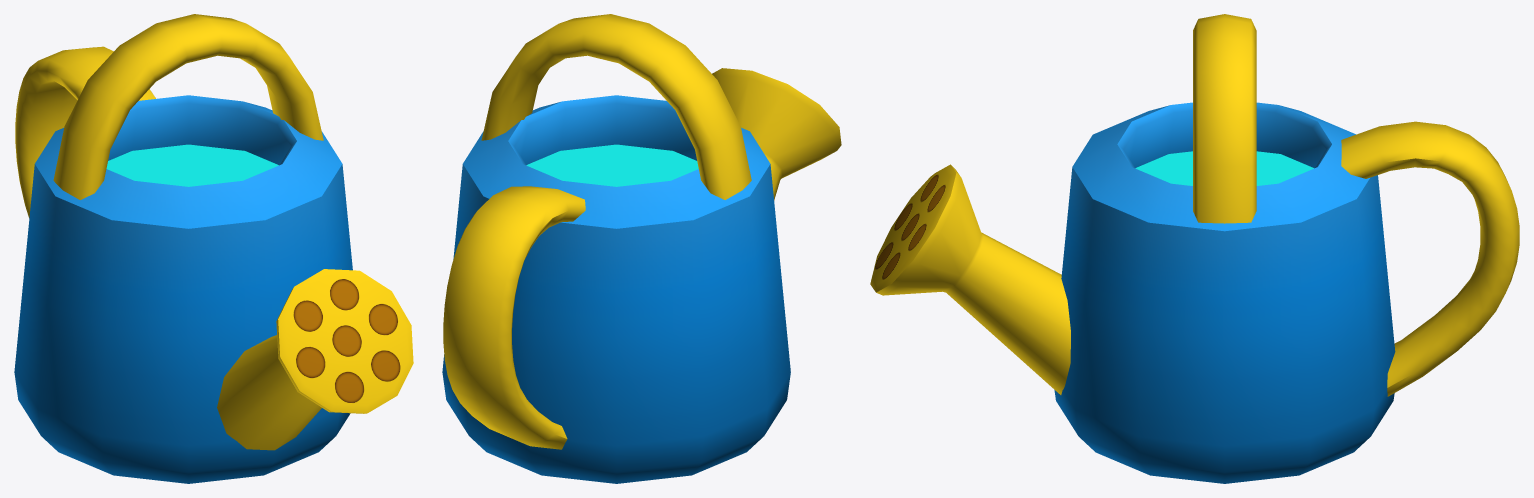
File: Farm_Tool_Watering_Pot_01.glb
3 views of the same model, side by side, from view 1: azimuth 30°, elevation 25°; view 2: azimuth 150°, elevation 25°; view 3: azimuth 270°, elevation 25° (orthographic).
Visible parts, largest first — view 1: Farm_Tool_Watering_Pot_01; view 2: Farm_Tool_Watering_Pot_01; view 3: Farm_Tool_Watering_Pot_01.
Boxes of the visible parts, bbox=[...] form: Farm_Tool_Watering_Pot_01: bbox=[14, 14, 413, 483]; Farm_Tool_Watering_Pot_01: bbox=[442, 14, 841, 483]; Farm_Tool_Watering_Pot_01: bbox=[870, 14, 1519, 483].
Bounding box in the file's own units: 0.4145 × 0.5299 × 0.7797.
Materials: 1 (1 with a texture image).
